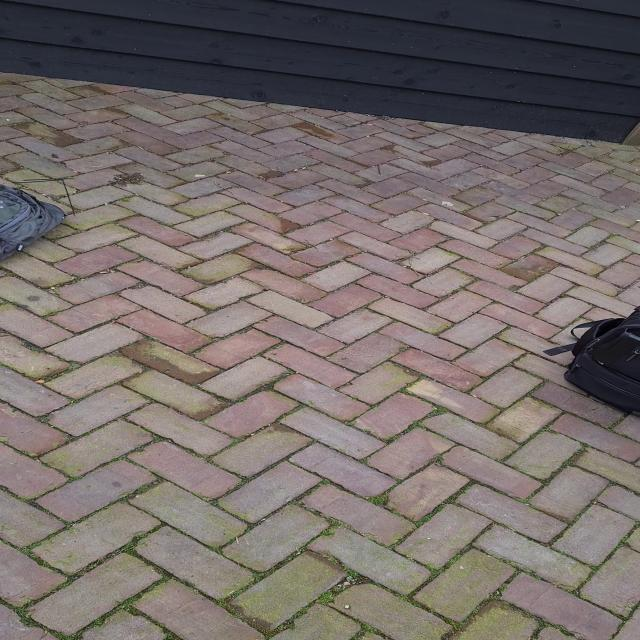backpack: (561, 302, 640, 418), (0, 180, 67, 264)
